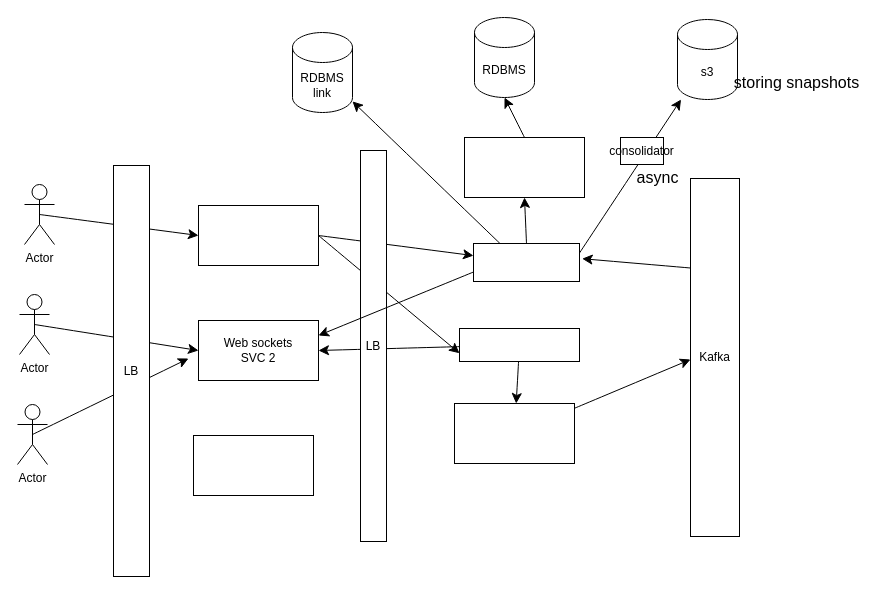
Some shapes in this 885 by 594 pixel diagram are drawn without their labels. Here are the shapes that lost their labels. From the top down, the centre of each, then its label:
At point 524,167: "User SVc".
At point 258,235: "Web sockets SVC 1".
At point 526,262: "Document svc".
At point 519,345: "Websocket svc mgr".
At point 514,433: "Messaging svc".
At point 253,465: "Web sockets SVC 3".
